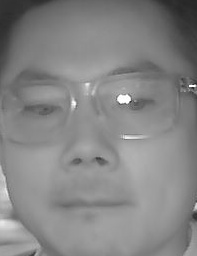glass: (94, 69, 182, 140), (1, 79, 74, 143)
mouth: (57, 188, 133, 228)
